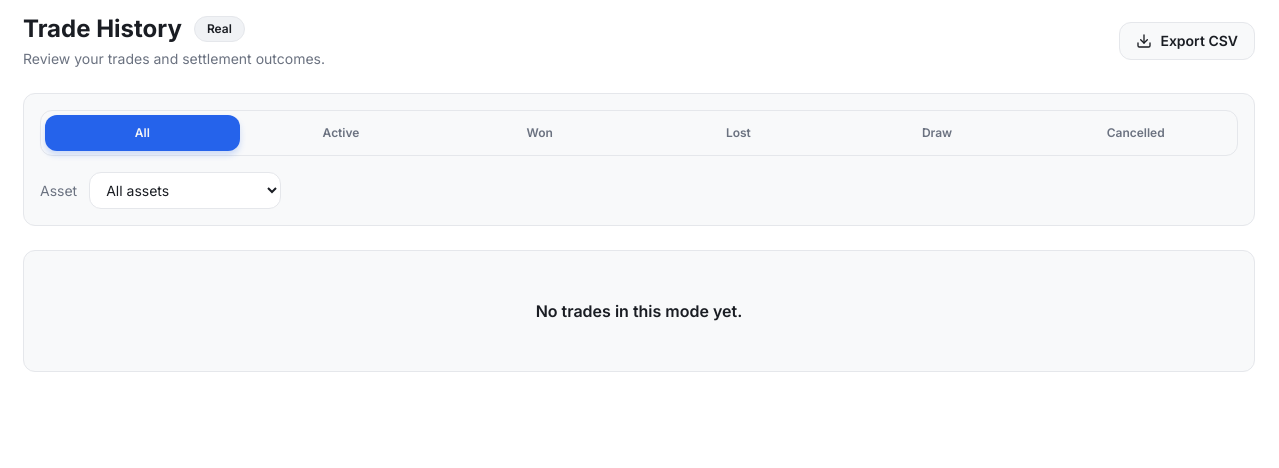
Test: HistoryPage › filters by status using getContracts
Expected: the text "No trades in this mode yet." is shown, [536, 301, 742, 321]
Click the button "Won": (540, 133) [442, 115, 637, 151]
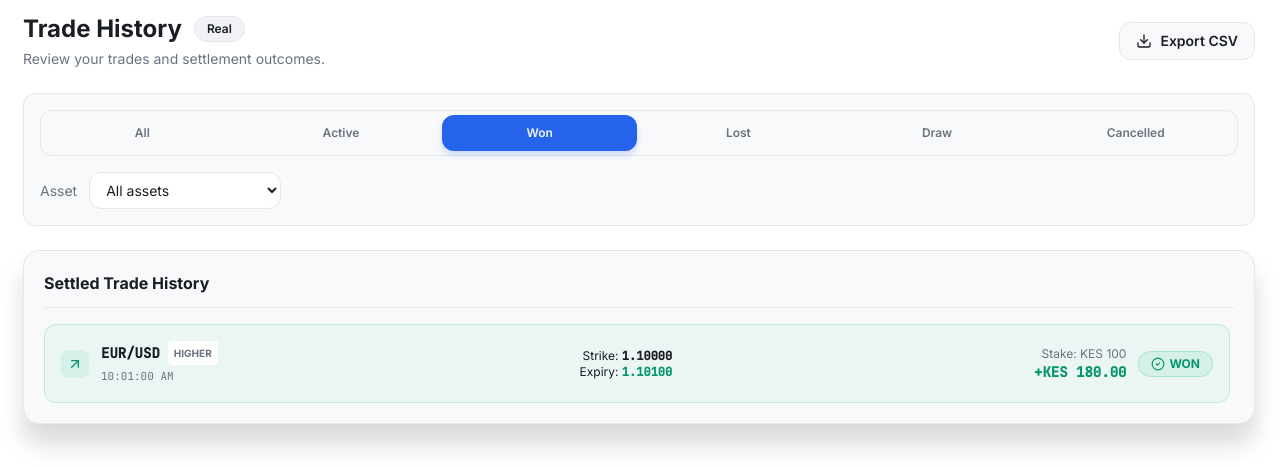
Expected: the text "EUR/USD" is shown, [101, 343, 160, 363]
